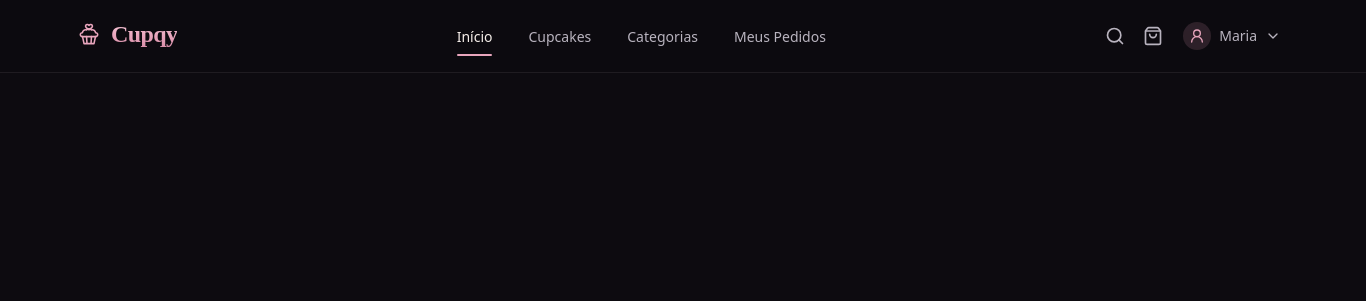
Header › não mostra áreas internas para clientes
Click the button "Maria": (1232, 36) x1=1173 y1=18 x2=1291 y2=54
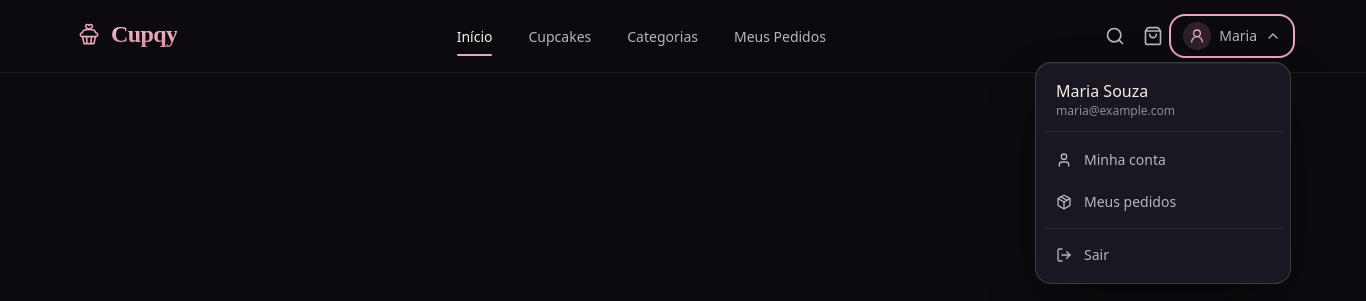
Result: the link "Minha conta" is shown at x1=1056 y1=150 x2=1166 y2=169
